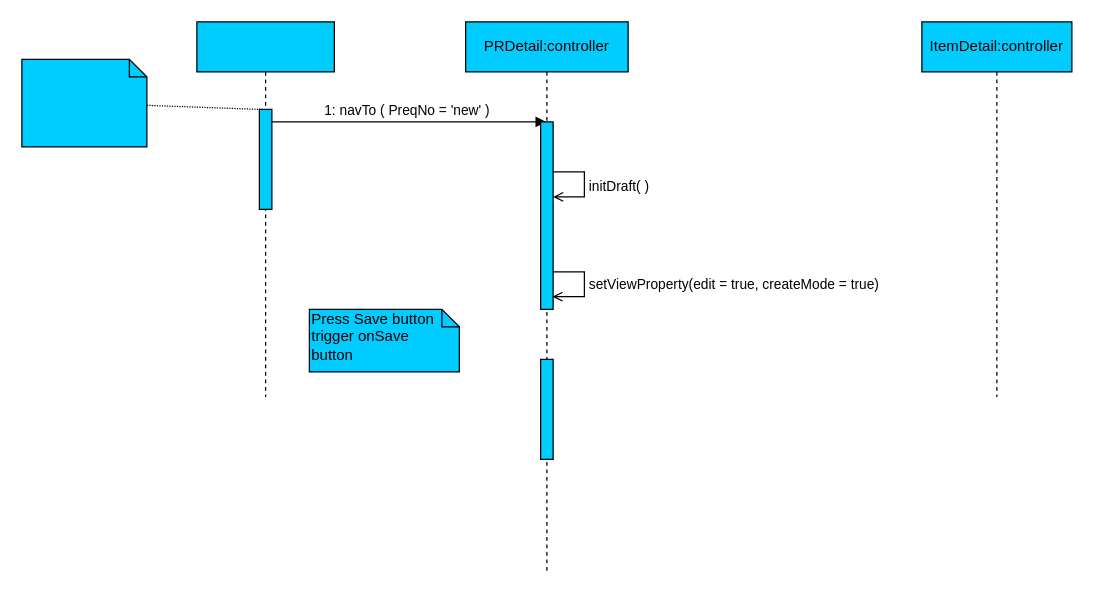
This 1094x594 diagram has some shape labels left out. The shapes that lost their labels are listed below. From the top down, each one's centre as x and y in pixels, then its label:
At point 84,102: "Create Button pressed triggers onCreatePR( )".
At point 265,209: "PRList:controller".
